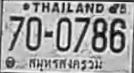0: (55, 16, 71, 51), (25, 16, 41, 50)
6: (109, 17, 125, 52)
7: (73, 16, 89, 51), (8, 15, 24, 50)
8: (91, 17, 106, 51)
SKM: (26, 54, 105, 73)
